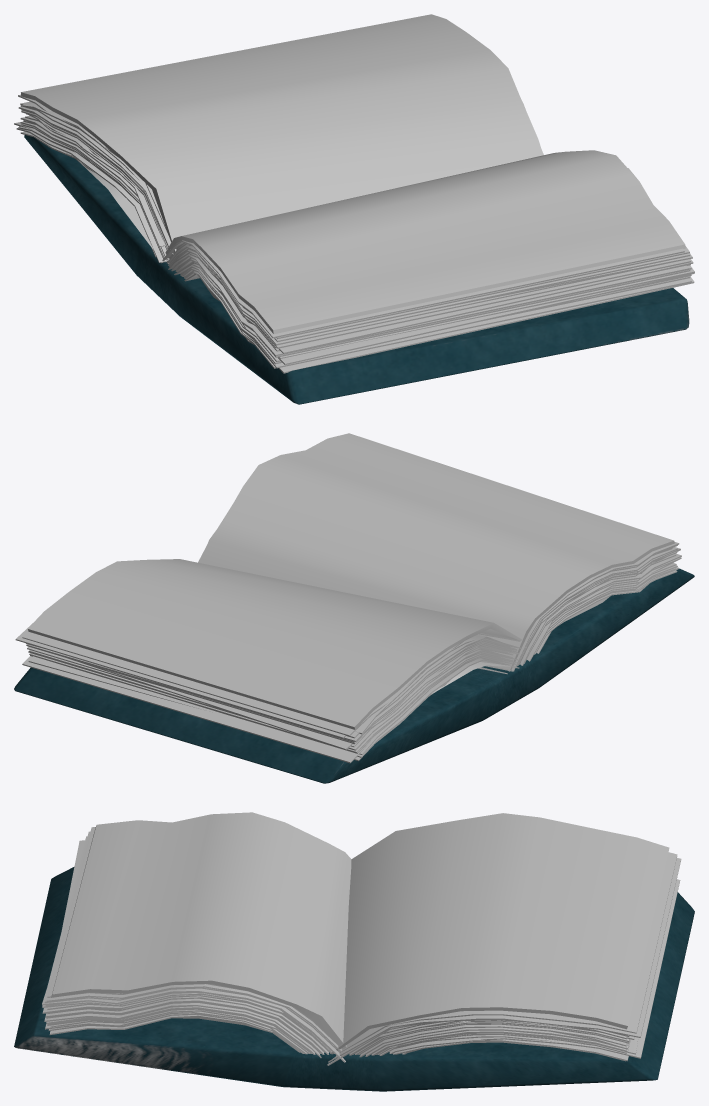
Rendered from livro aberto azul.fbx.
3 views of the same model, one above another, from view 1: azimuth 30°, elevation 25°; view 2: azimuth 150°, elevation 25°; view 3: azimuth 270°, elevation 25° (orthographic). The views are drawn at different scales.
Parts seen in each view (by area): view 1: livros aberto_LOD0; view 2: livros aberto_LOD0; view 3: livros aberto_LOD0.
Boxes of the visible parts, box(x1,y1,x2,y2) form: livros aberto_LOD0: box(14, 14, 694, 404); livros aberto_LOD0: box(14, 433, 694, 783); livros aberto_LOD0: box(14, 812, 694, 1091).
Size of what is drawn, in the model's own units: 43.16 by 10.56 by 60.1.
1 material, 1 textured.
